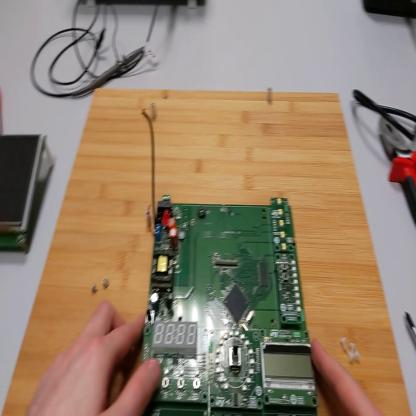hand: (31, 303, 161, 415), (311, 337, 381, 414)
low voltage board: (138, 114, 316, 415)
oscilloscope probe tip: (71, 49, 146, 101)
pliers: (382, 115, 416, 225)
screwdriver-: (405, 311, 416, 342)
welder station: (364, 2, 416, 17)
working area: (2, 80, 412, 415)
